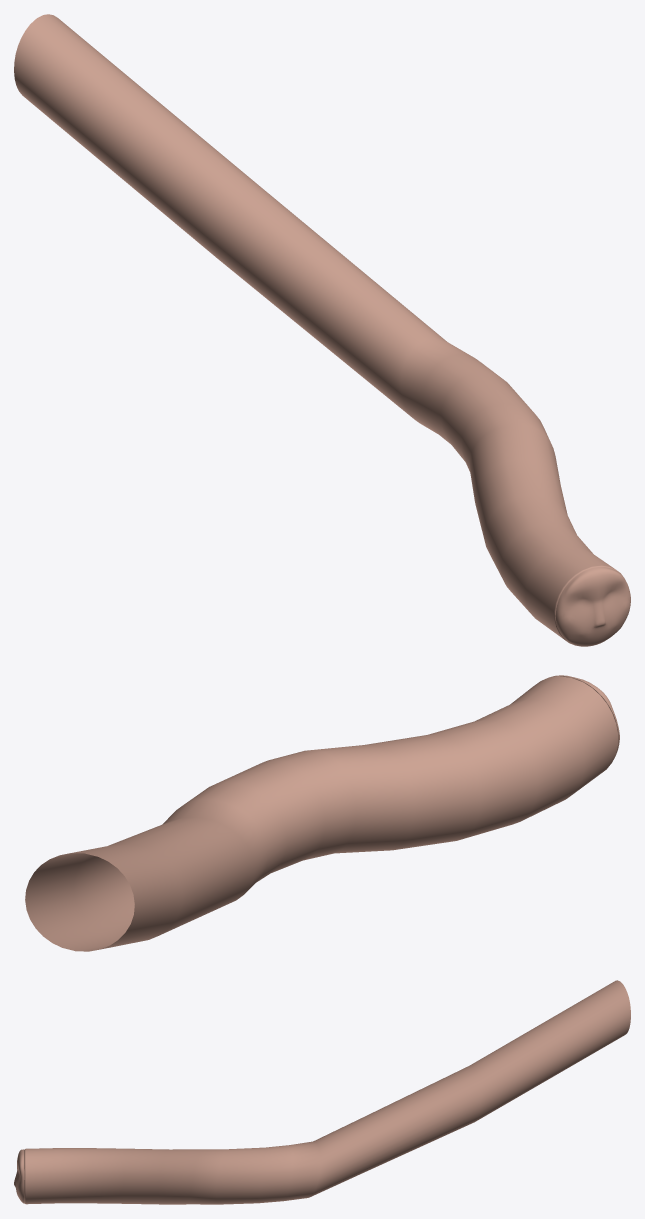
File: targetHead.fbx
3 renders of one model, top to bottom at view 1: azimuth 30°, elevation 25°; view 2: azimuth 150°, elevation 25°; view 3: azimuth 270°, elevation 25°, orthographic. The views are drawn at different scales.
Visible parts, largest first — view 1: tubeBody, face; view 2: tubeBody; view 3: tubeBody, face.
Part boxes in pixels (left/top/right/bottom): tubeBody: left=14, top=14, right=624, bottom=645; face: left=555, top=567, right=630, bottom=646; tubeBody: left=25, top=676, right=618, bottom=951; tubeBody: left=24, top=980, right=630, bottom=1204; face: left=14, top=1149, right=24, bottom=1203.
Size of the model in its own units: 60.11 by 76.5 by 221.
